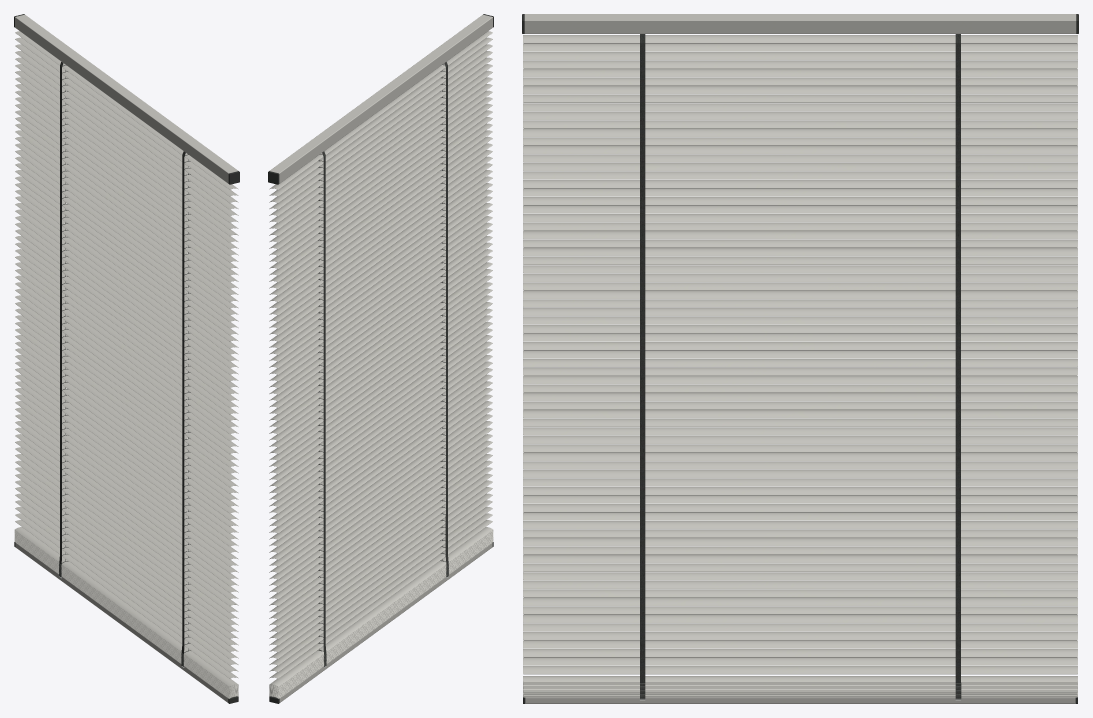
The model's file is blinds.glb.
3 views of the same model, side by side, from view 1: azimuth 30°, elevation 25°; view 2: azimuth 150°, elevation 25°; view 3: azimuth 270°, elevation 25° (orthographic). The views are drawn at different scales.
Parts seen in each view (by area): view 1: blindsOpen_01_mesh_00; view 2: blindsOpen_01_mesh_00; view 3: blindsOpen_01_mesh_00.
Part boxes in pixels (x1=…): blindsOpen_01_mesh_00: x1=14, y1=14, x2=239, y2=703; blindsOpen_01_mesh_00: x1=268, y1=14, x2=493, y2=703; blindsOpen_01_mesh_00: x1=522, y1=14, x2=1078, y2=703.
Size of the model in its own units: 0.0561 by 2.57 by 1.89.
Materials: 4 (3 with a texture image).
